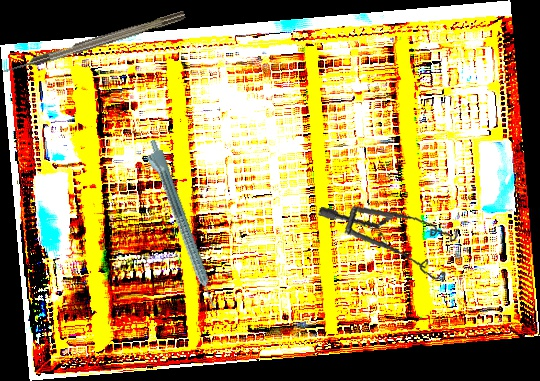Handpiece: (140, 138, 219, 311)
Hook Surgical: (1, 10, 187, 76)
Speculum: (316, 188, 467, 299)
